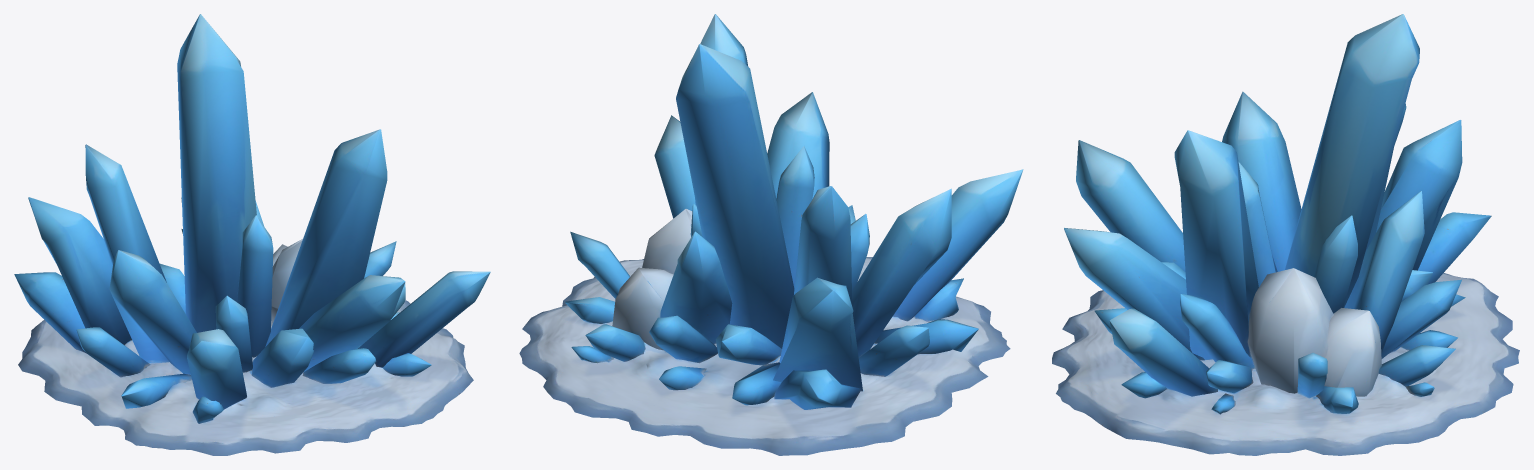
The model's file is Tripo_IceCluster_v2_raw.fbx.
3 renders of one model, left to right at view 1: azimuth 30°, elevation 25°; view 2: azimuth 150°, elevation 25°; view 3: azimuth 270°, elevation 25°, orthographic. The views are drawn at different scales.
Visible parts, largest first — view 1: tripo_node_4f55b289; view 2: tripo_node_4f55b289; view 3: tripo_node_4f55b289.
Boxes of the visible parts, bbox=[...] form: tripo_node_4f55b289: bbox=[14, 14, 490, 455]; tripo_node_4f55b289: bbox=[519, 14, 1023, 455]; tripo_node_4f55b289: bbox=[1052, 14, 1519, 455].
Bounding box in the file's own units: 0.998 × 0.873 × 0.998.
Materials: 1 (1 with a texture image).
